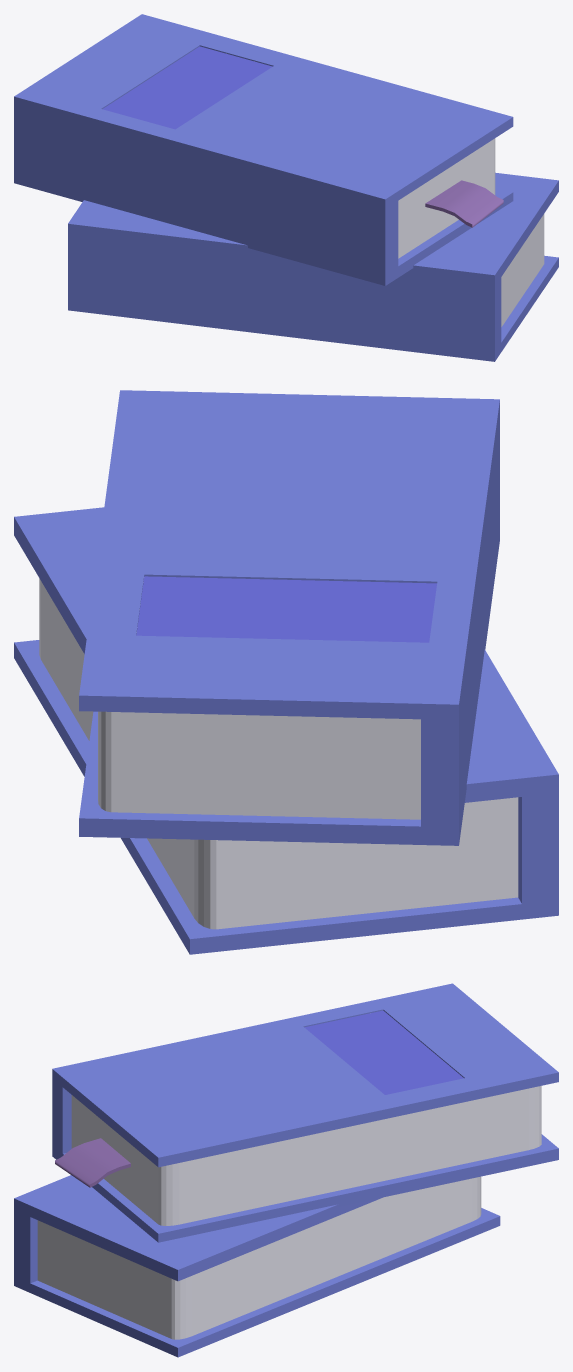
The model's file is books.glb.
The picture shows the model from 3 angles, top to bottom: view 1: azimuth 30°, elevation 25°; view 2: azimuth 150°, elevation 25°; view 3: azimuth 270°, elevation 25°; orthographic projection. The views are drawn at different scales.
Parts seen in each view (by area): view 1: Куб.002, Куб.001, Куб.004, Куб.005, Куб; view 2: Куб.002, Куб.001, Куб.004, Куб.005; view 3: Куб.002, Куб.004, Куб.005, Куб.001, Куб.
Part boxes in pixels (x1,y1,x2,y2): Куб.002: [14, 14, 513, 285]; Куб.001: [68, 172, 558, 361]; Куб.004: [398, 138, 495, 258]; Куб.005: [501, 214, 544, 326]; Куб: [425, 180, 503, 227]; Куб.002: [79, 390, 499, 845]; Куб.001: [14, 507, 558, 954]; Куб.004: [98, 711, 420, 819]; Куб.005: [39, 578, 518, 929]; Куб.002: [52, 983, 558, 1242]; Куб.004: [71, 1086, 541, 1225]; Куб.005: [37, 1176, 481, 1339]; Куб.001: [14, 1175, 500, 1357]; Куб: [55, 1138, 130, 1187].
Bounding box in the file's own units: 4.09 × 1.62 × 4.63.
